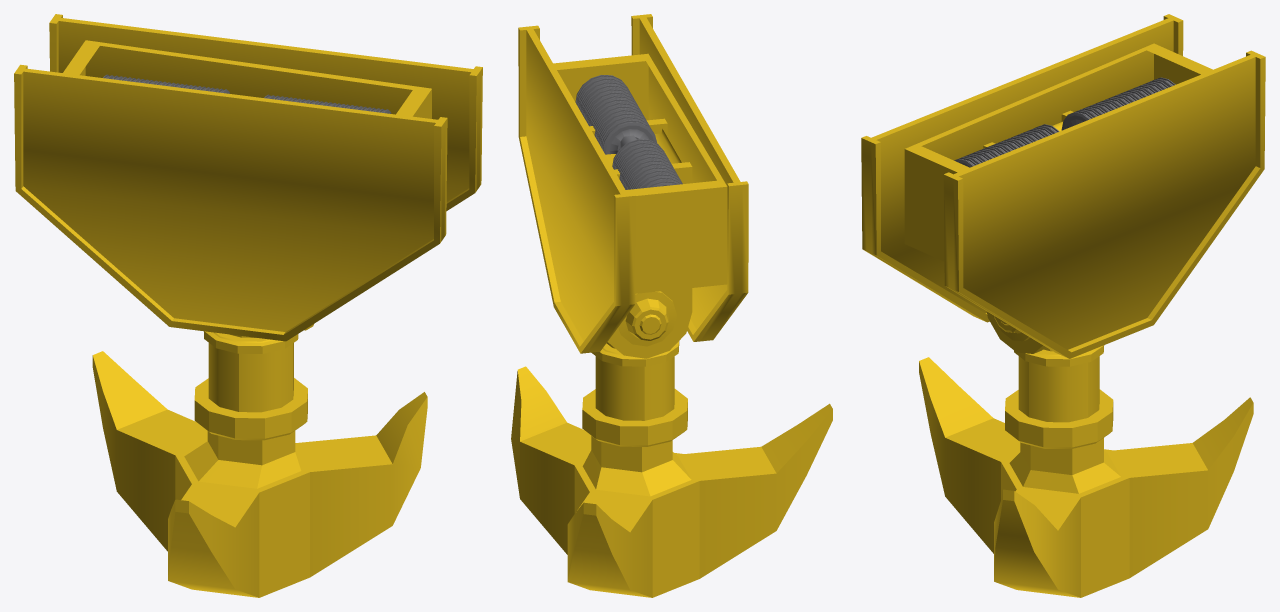
Rendered from hook.glb.
3 views of the same model, side by side, from view 1: azimuth 30°, elevation 25°; view 2: azimuth 150°, elevation 25°; view 3: azimuth 270°, elevation 25° (orthographic). The views are drawn at different scales.
Parts seen in each view (by area): view 1: hook; view 2: hook; view 3: hook.
Part boxes in pixels (<box>): hook: <box>14,14,482,597</box>; hook: <box>511,14,832,597</box>; hook: <box>861,14,1265,597</box>.
Size of the model in its own units: 3.57 by 4.75 by 3.66.
